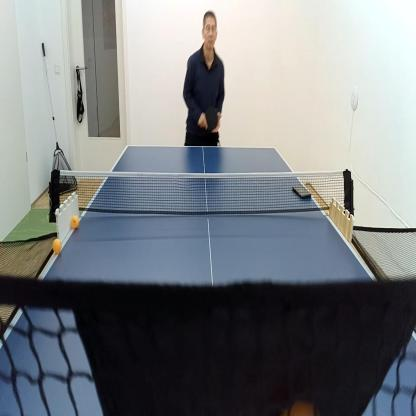Ball: (53, 238, 62, 254), (72, 216, 78, 230)
